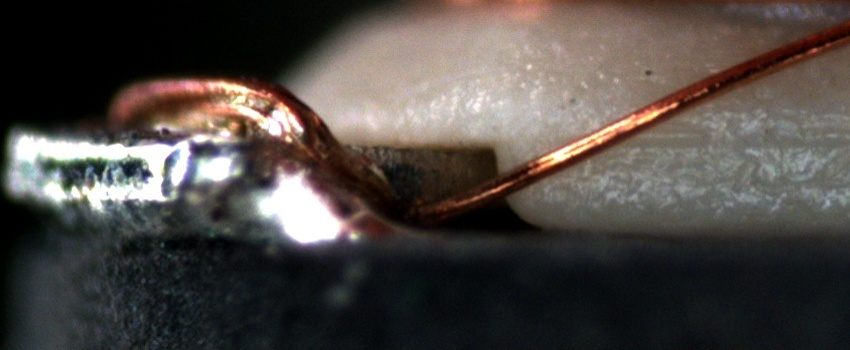DL: (616, 108, 850, 172)
TE: (108, 69, 343, 146)
